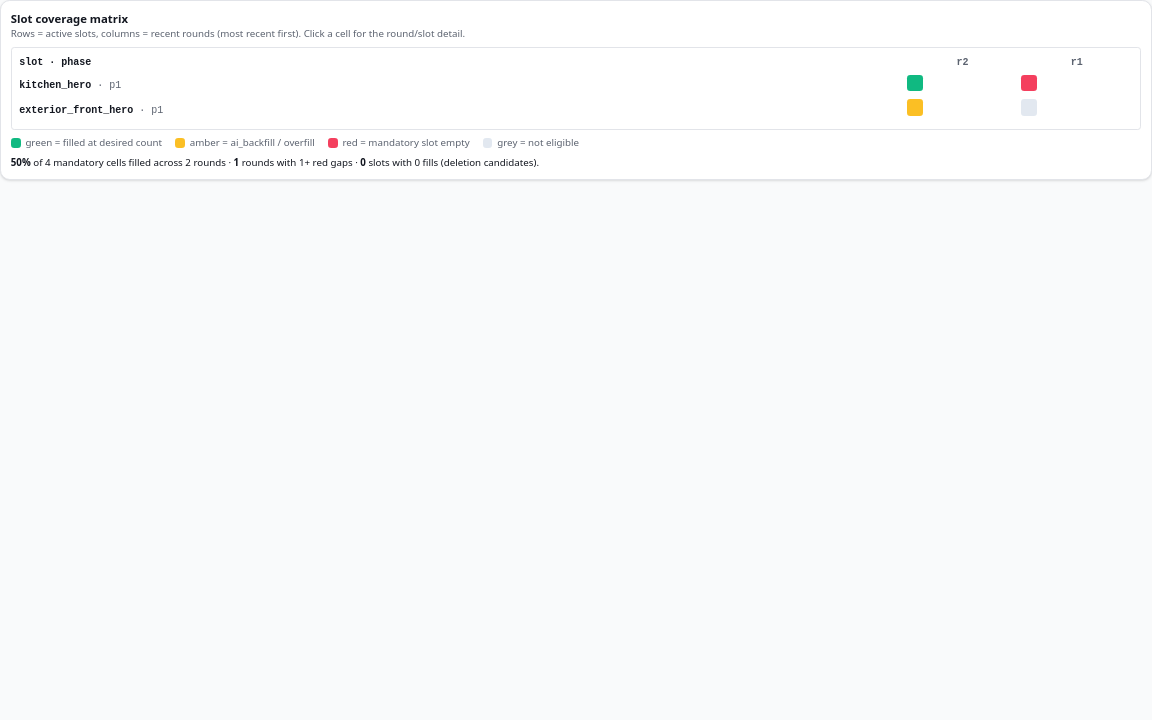
ArchitectureTab — render › clicking a coverage cell opens the drawer with that cell's detail
This screenshot has width=1152, height=720.
Click the button with test id "cell-button-kitchen_hero-r2" at (1029, 83), box [1021,75,1038,91]
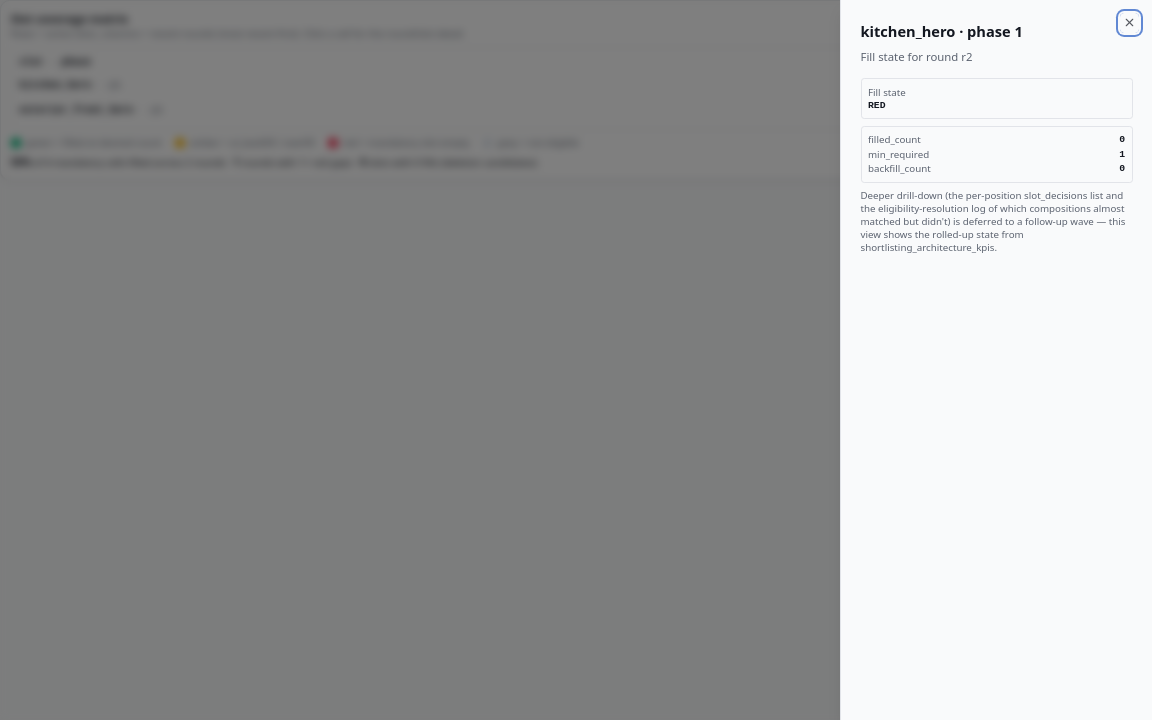
Expected: the dialog is shown, [840,0,1151,719]
